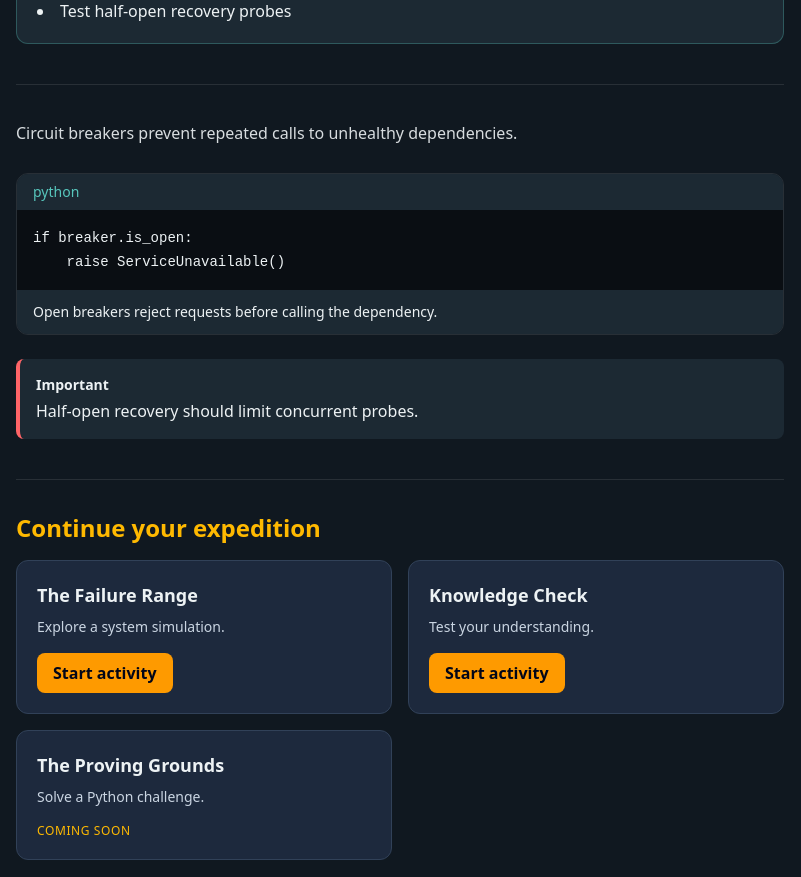
LearningRoutes › navigates from a lesson to its simulation
The image size is (801, 877).
(page scrolled)
Click the link named "Start activity: The Failure Range" at (105, 673), box [37,653,172,693]
(page scrolled)
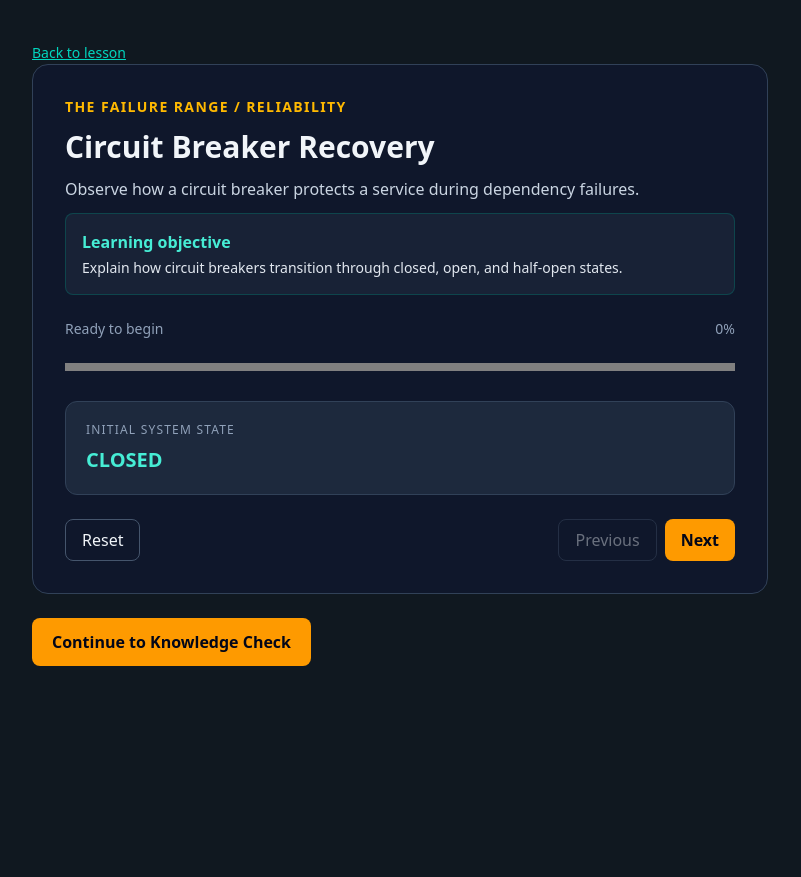
expect the element named "Simulation player" is shown: met, box [32,64,768,594]
expect the text "Ready to begin" is shown: met, box [65,319,163,339]
